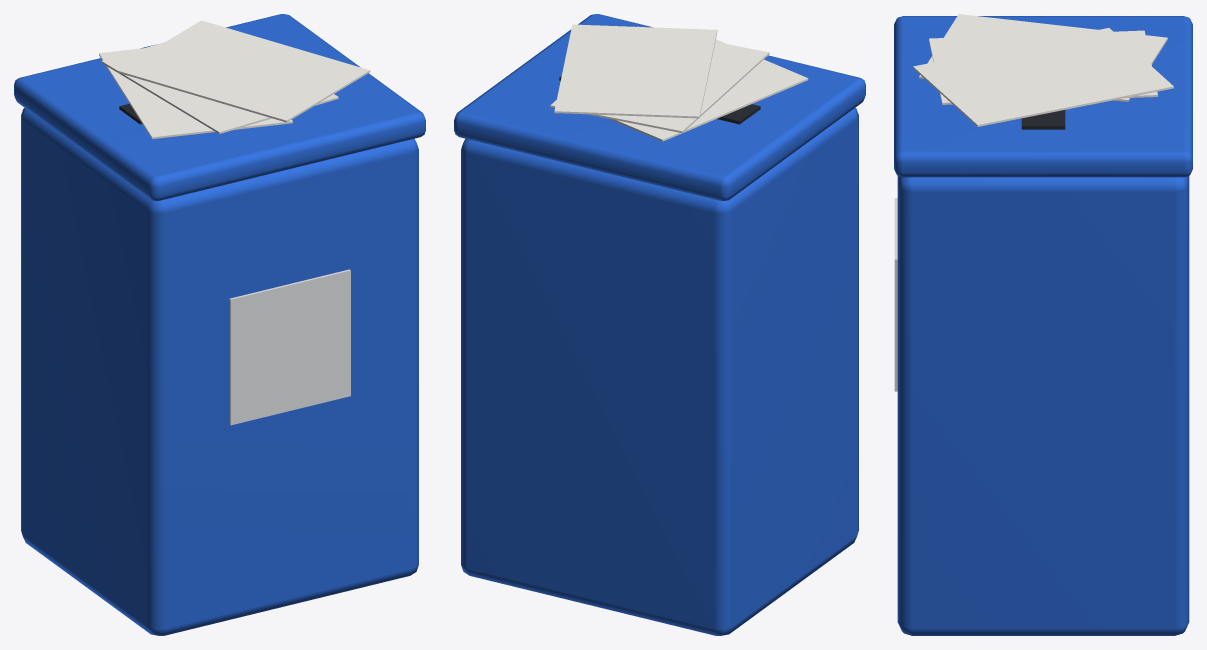
The model's file is RecycleBin.fbx.
The picture shows the model from 3 angles, left to right: view 1: azimuth 30°, elevation 25°; view 2: azimuth 150°, elevation 25°; view 3: azimuth 270°, elevation 25°; orthographic projection. The views are drawn at different scales.
Visible parts, largest first — view 1: RecycleBinBody; view 2: RecycleBinBody; view 3: RecycleBinBody.
Boxes of the visible parts, box(x1,y1,x2,y2) form: RecycleBinBody: box(14, 14, 425, 635); RecycleBinBody: box(454, 14, 865, 635); RecycleBinBody: box(894, 14, 1192, 635).
Size of the model in its own units: 0.46 by 0.7695 by 0.41.
